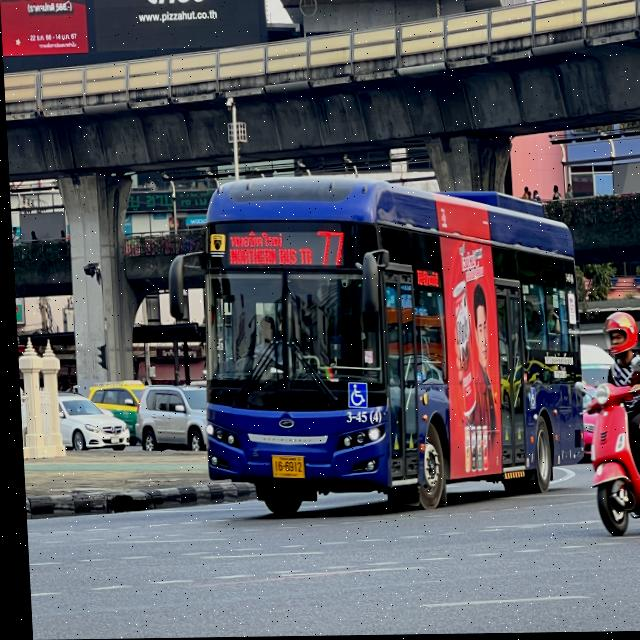Bus-Line-Number: (310, 227, 348, 269)
Destination-Sign-Normal: (223, 227, 313, 269)
TSB-Bus: (190, 174, 584, 520)
